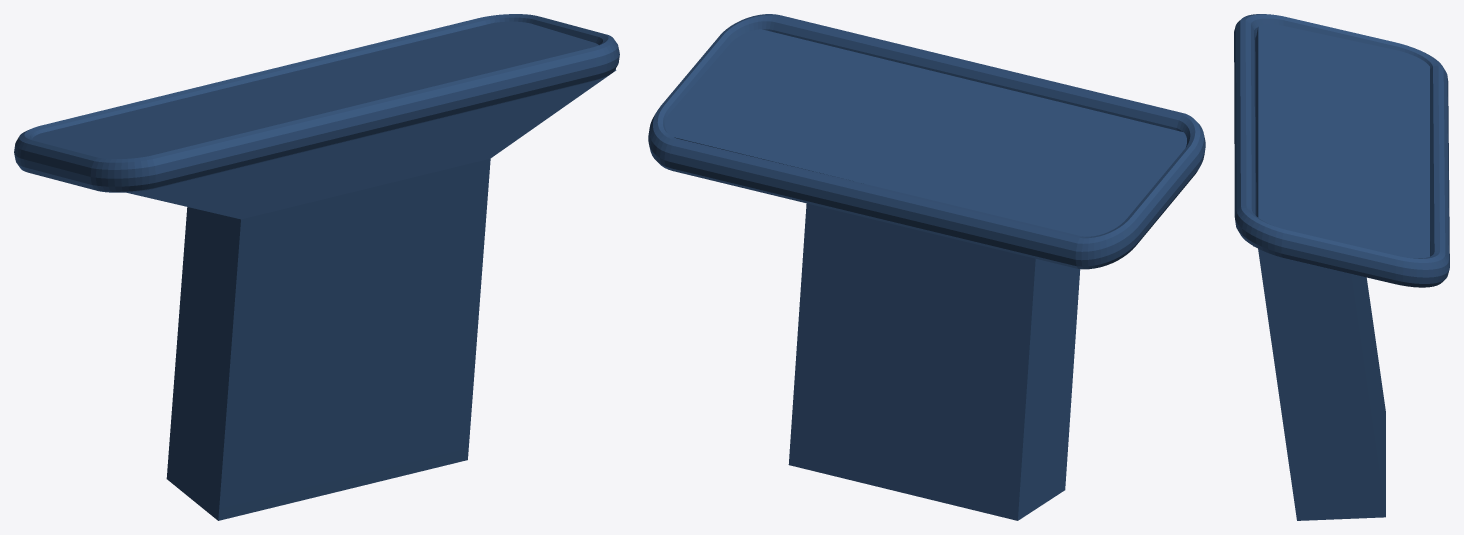
File: Console2.fbx
3 views of the same model, side by side, from view 1: azimuth 30°, elevation 25°; view 2: azimuth 150°, elevation 25°; view 3: azimuth 270°, elevation 25° (orthographic). The views are drawn at different scales.
Visible parts, largest first — view 1: Console2-col; view 2: Console2-col; view 3: Console2-col.
Boxes of the visible parts, bbox=[...] form: Console2-col: bbox=[14, 14, 619, 520]; Console2-col: bbox=[648, 14, 1205, 520]; Console2-col: bbox=[1234, 14, 1449, 520].
Bounding box in the file's own units: 1174 × 878 × 485.
